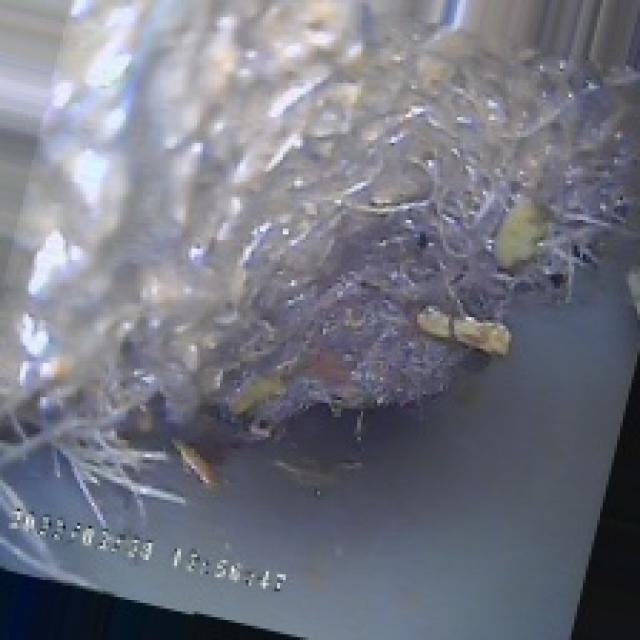sluge accumulation: (66, 23, 591, 514)
